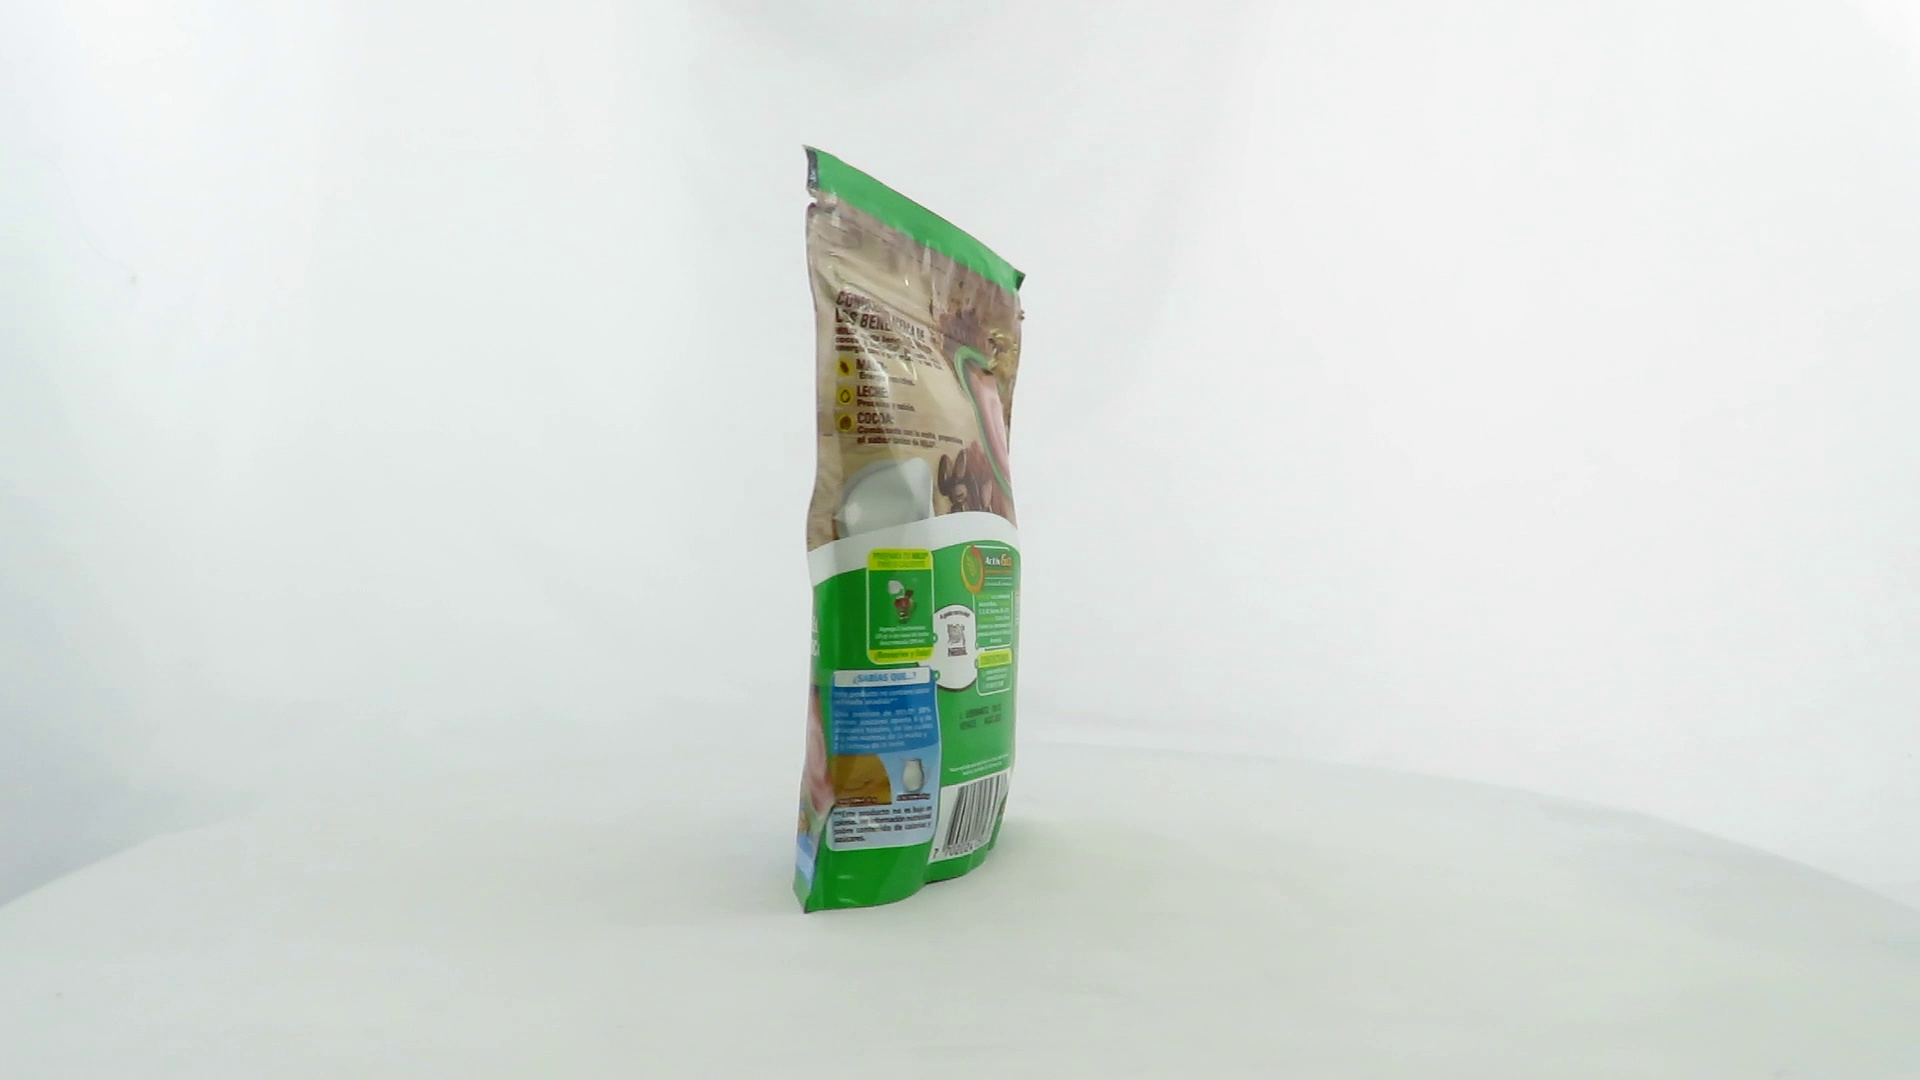COL0170205DYP20000: (787, 138, 1033, 920)
